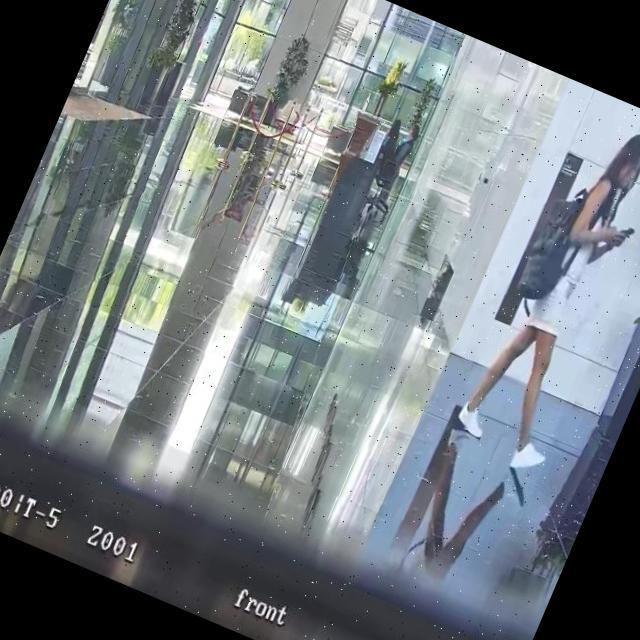person: (446, 111, 640, 480), (387, 121, 422, 176), (374, 117, 407, 169)
